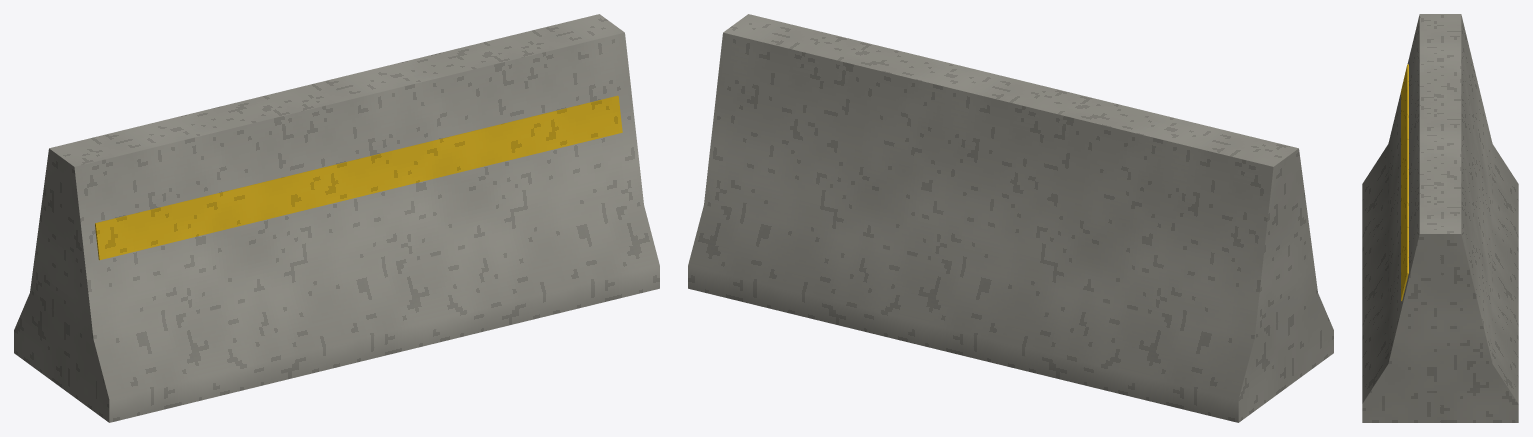
File: barreira_concreto.glb
3 renders of one model, left to right at view 1: azimuth 30°, elevation 25°; view 2: azimuth 150°, elevation 25°; view 3: azimuth 270°, elevation 25°, orthographic. The views are drawn at different scales.
Parts seen in each view (by area): view 1: Inteiro; view 2: Inteiro; view 3: Inteiro.
Part boxes in pixels (box(x1,y1,x2,y2)): Inteiro: box(14, 14, 659, 422); Inteiro: box(688, 14, 1333, 422); Inteiro: box(1362, 14, 1518, 422).
Bounding box in the file's own units: 2 × 0.8 × 0.6.
1 material, 1 textured.
